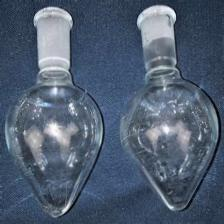Pear shaped flask: (120, 2, 219, 215), (9, 3, 103, 217)
